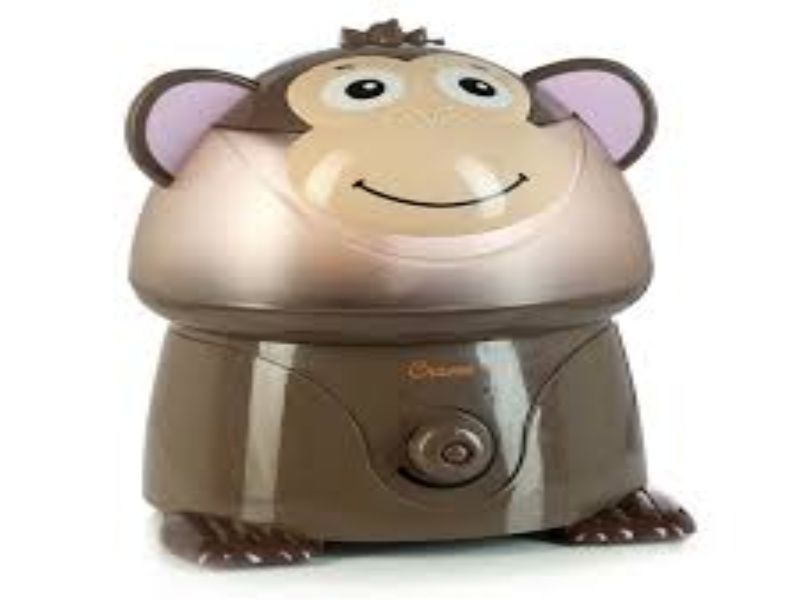monkey: (124, 20, 710, 575)
